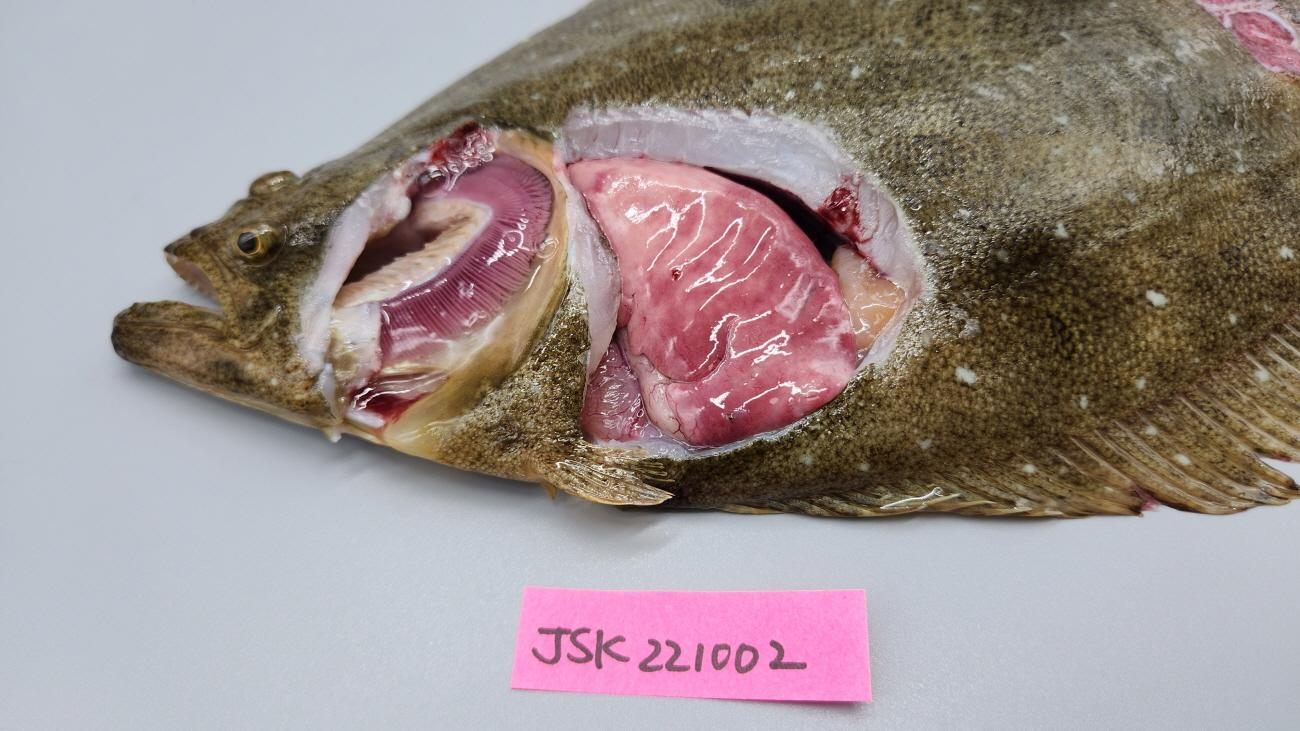VILIC: (643, 196, 847, 431)
